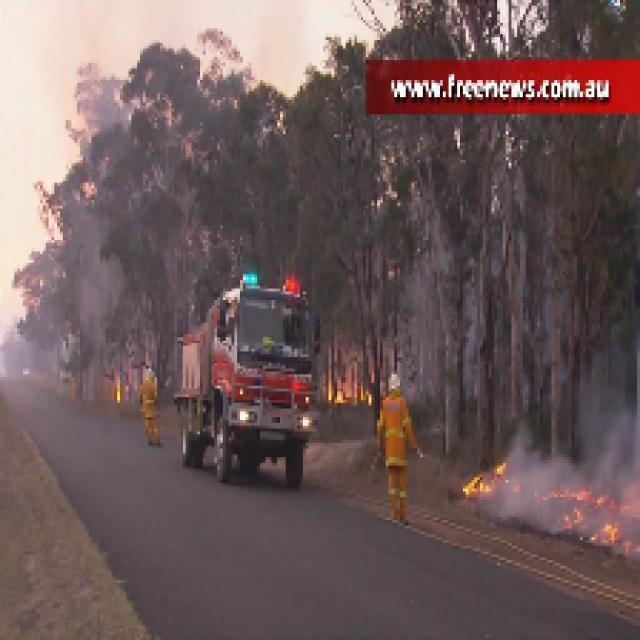Smoke: (506, 448, 566, 528)
